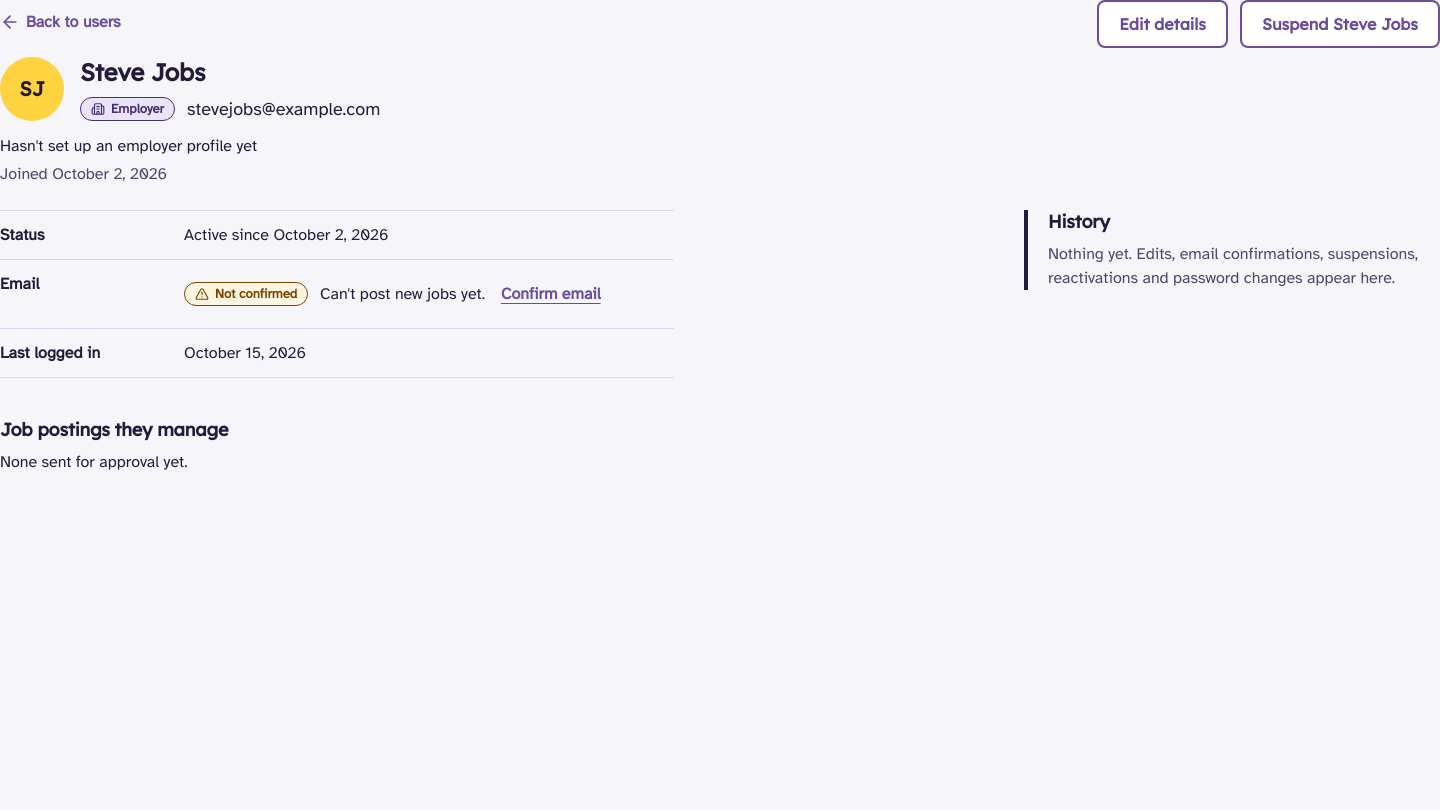
UserPage › confirms an email that was never confirmed, with a reason
The width and height of the screenshot is (1440, 810).
Check: the text "Not confirmed" is shown, box 184,282 -> 308,306
Check: the text "Can't post new jobs yet." is shown, box 320,284 -> 485,304
Click the button "Confirm email" at {"x": 551, "y": 294}, box 497,272 -> 605,316
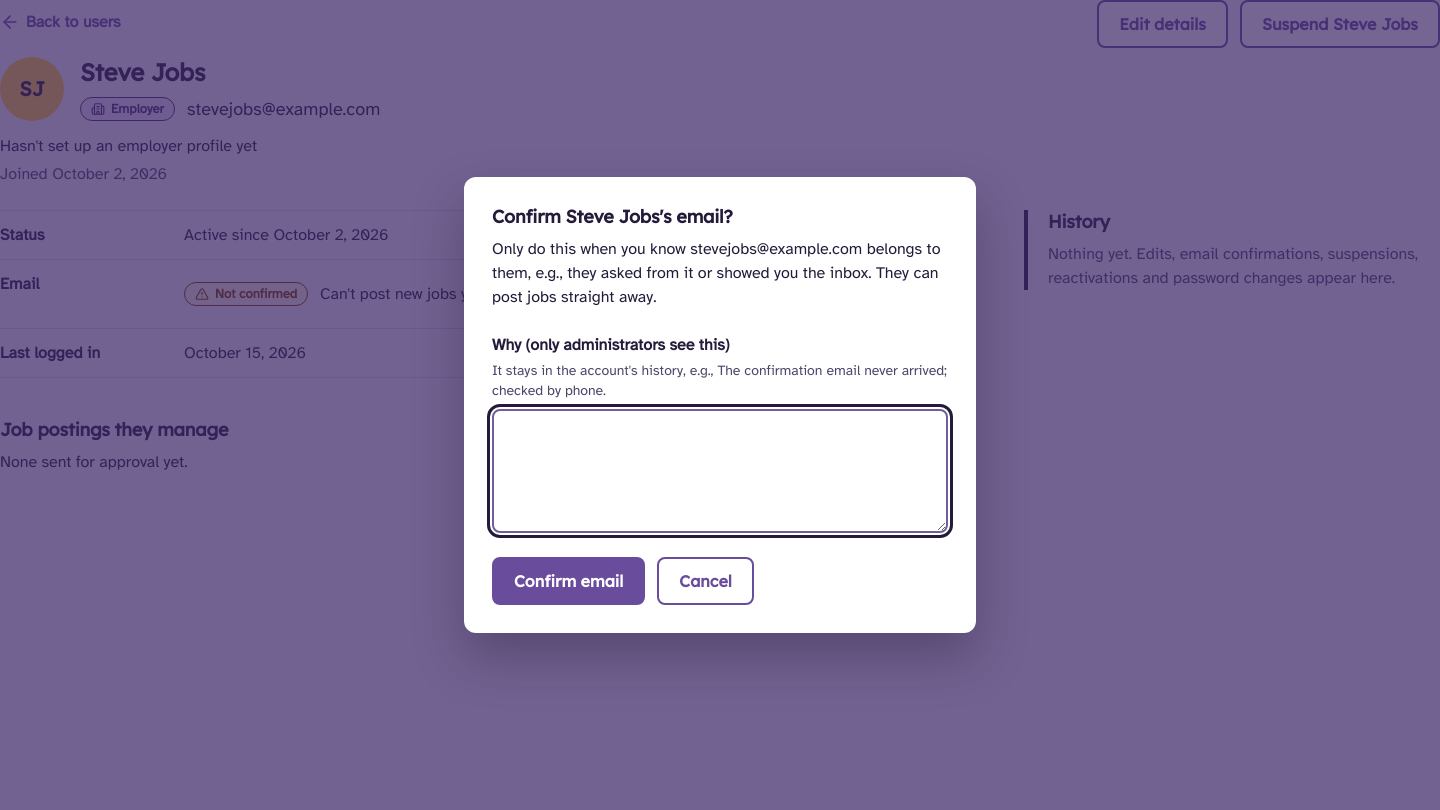
Type "The link never arrived." into the text box labelled "Why (only administrators see this)" at {"x": 720, "y": 471}, box 492,409 -> 948,533
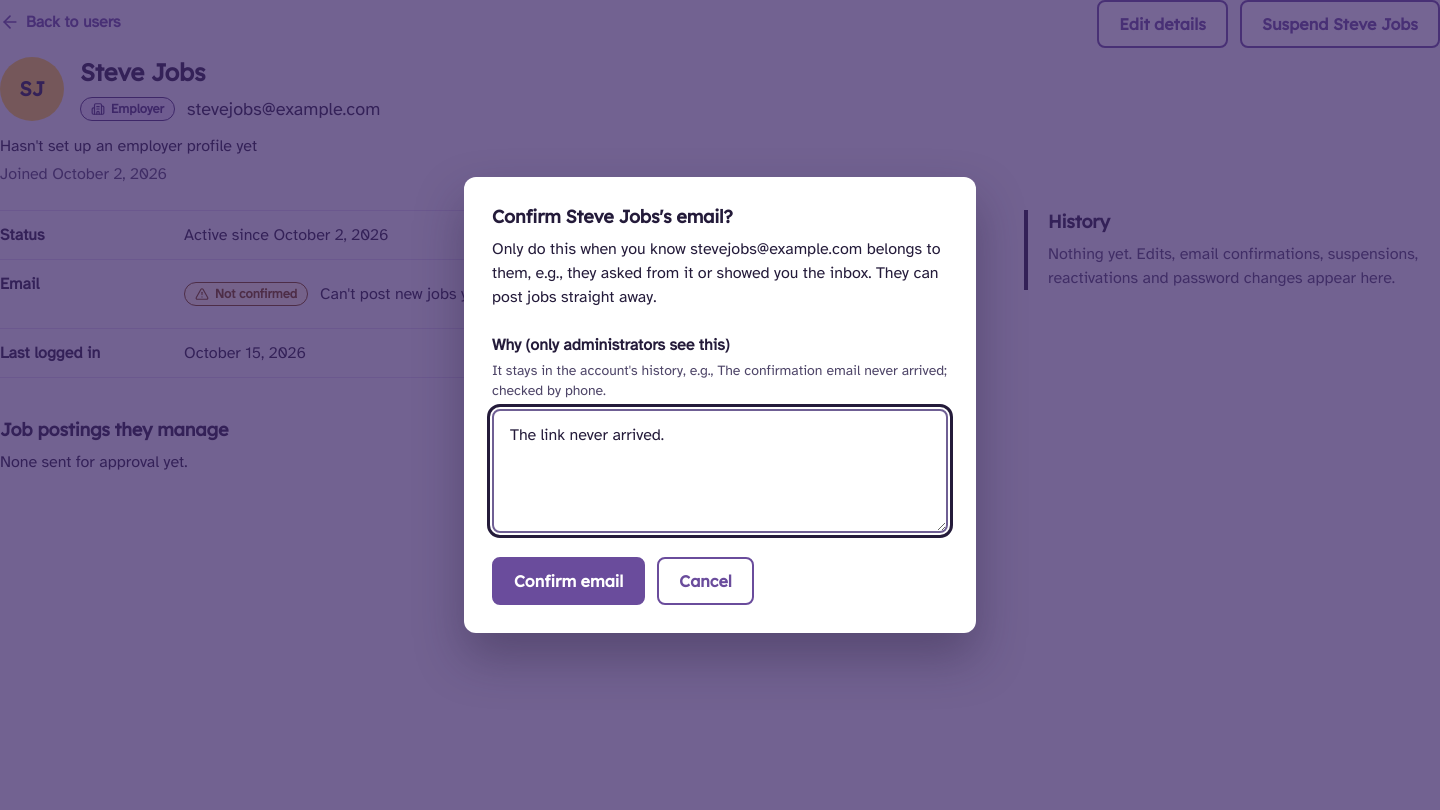
Click the button "Confirm email" at {"x": 569, "y": 581}, box 492,557 -> 645,605
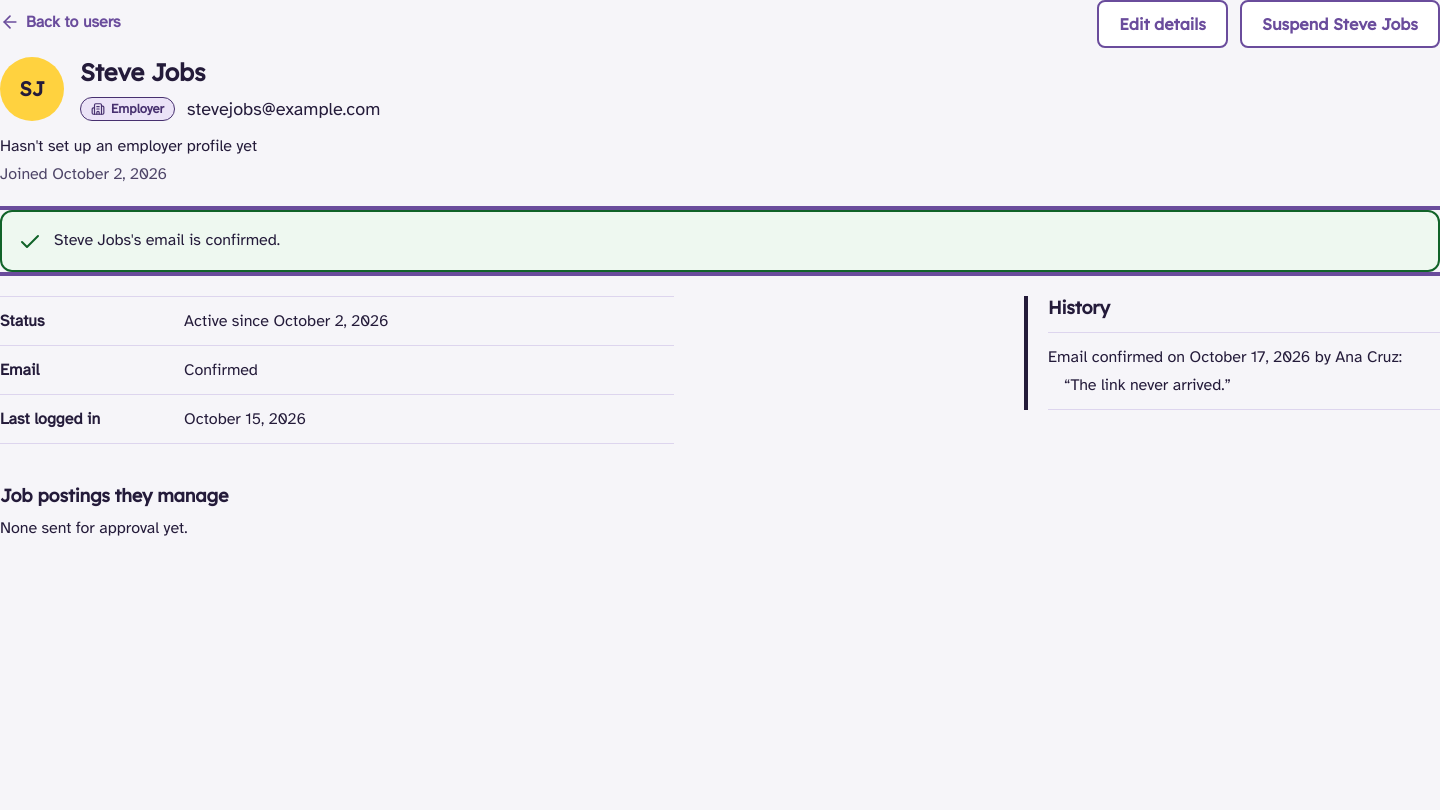
Check: the text "Confirmed" is shown, box 184,360 -> 258,380
Check: the text "Steve Jobs's email is confirmed." is shown, box 54,228 -> 280,254
Check: the text "Email confirmed on October 17, 2026 by Ana Cruz:" is shown, box 1048,345 -> 1439,369
